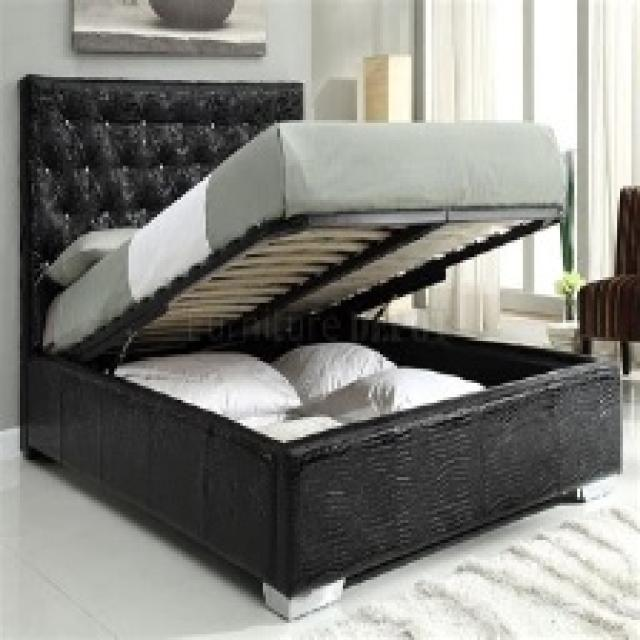Bed: (17, 71, 623, 620)
